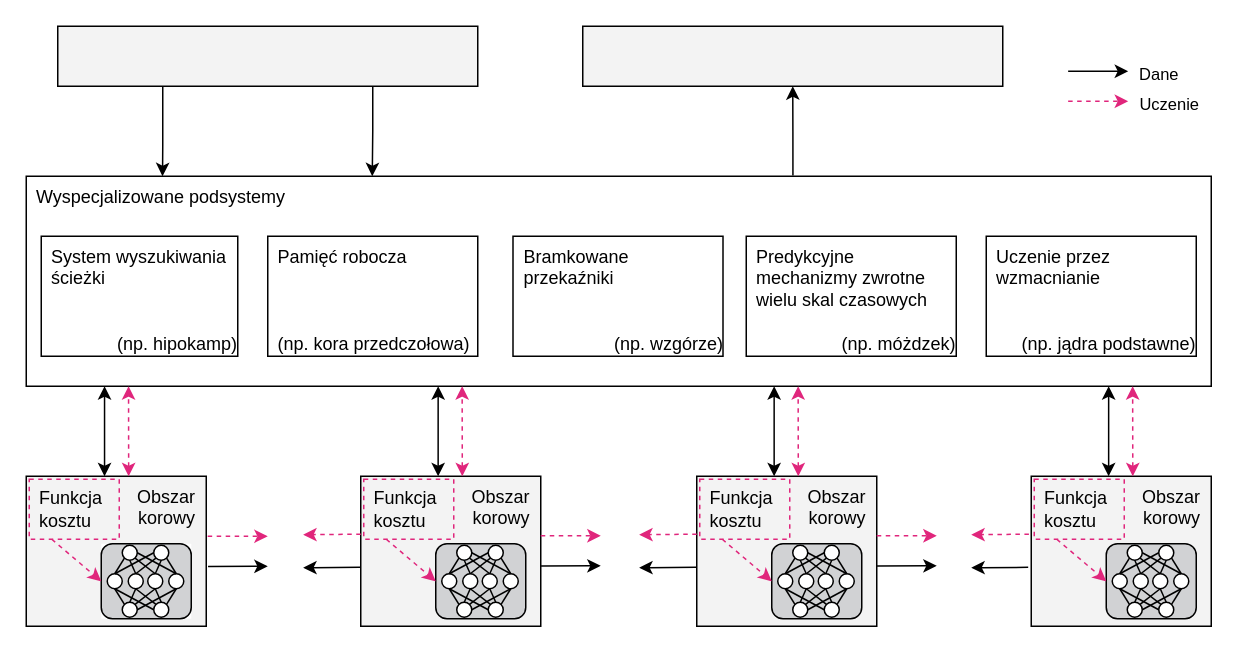
Some shapes in this 1238 by 653 pixel diagram are drawn without their labels. Each missing label, with the box of its shape:
Bodźce sensoryczne: (56, 25, 478, 86)
Reakcje motoryczne: (581, 25, 1003, 86)
